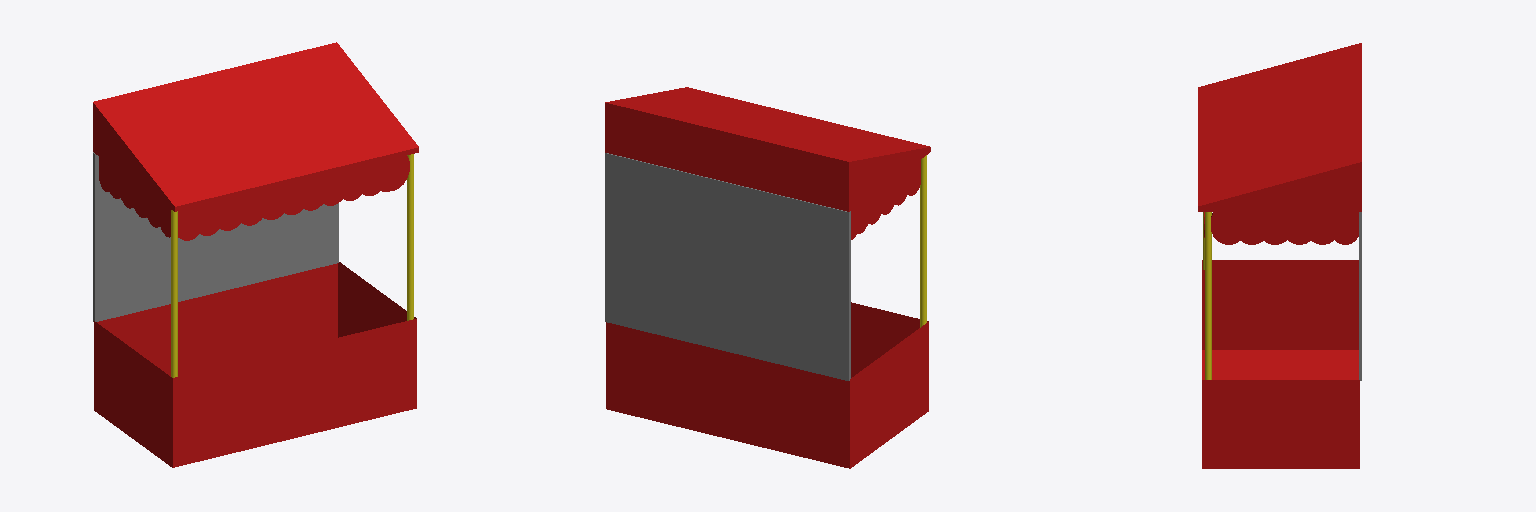
The picture shows the model from 3 angles: view 1: azimuth 30°, elevation 25°; view 2: azimuth 150°, elevation 25°; view 3: azimuth 270°, elevation 25°; orthographic projection.
Parts seen in each view (by area): view 1: pCube1, pCube3, pCube2, pasted__pasted__pasted__pasted__pasted__pasted__pCylinder2 paste, pasted__pCylinder1 group, pCylinder1, pCylinder2, pasted__pasted__pasted__pCylinder2 pasted__pasted__group1 pasted, pasted__pasted__pCylinder2 pasted__group1 group6, pasted__pasted__pCylinder2 pasted__group1 group2, pasted__pasted__pCylinder2 pasted__group1 group3, pasted__pasted__pCylinder2 pasted__group1 group7 (+4 smaller); view 2: pCube2, pCube1, pCube3, pasted__pasted__pasted__pasted__pasted__pasted__pCylinder2 paste, pasted__pCylinder1 group; view 3: pCube1, pCube3, pasted__pasted__pasted__pasted__pCylinder2 pasted__pasted__paste, pCylinder1, pasted__pasted__pasted__pCylinder2 pasted__pasted__group1 pasted.
Boxes of the visible parts, x1,y1,x2,y2 form: pCube1: [94, 262, 416, 467]; pCube3: [93, 42, 418, 211]; pCube2: [93, 152, 338, 321]; pasted__pasted__pasted__pasted__pasted__pasted__pCylinder2 paste: [99, 157, 162, 227]; pasted__pCylinder1 group: [171, 210, 177, 377]; pCylinder1: [407, 154, 413, 320]; pCylinder2: [178, 205, 205, 240]; pasted__pasted__pasted__pCylinder2 pasted__pasted__group1 pasted: [378, 156, 409, 190]; pasted__pasted__pCylinder2 pasted__group1 group6: [297, 175, 329, 210]; pasted__pasted__pCylinder2 pasted__group1 group2: [214, 195, 246, 230]; pasted__pasted__pCylinder2 pasted__group1 group3: [237, 190, 268, 225]; pasted__pasted__pCylinder2 pasted__group1 group7: [318, 170, 349, 205]; pCube2: [605, 153, 850, 380]; pCube1: [606, 302, 928, 468]; pCube3: [605, 87, 930, 211]; pasted__pasted__pasted__pasted__pasted__pasted__pCylinder2 paste: [851, 168, 910, 239]; pasted__pCylinder1 group: [920, 155, 926, 327]; pCube1: [1202, 260, 1359, 468]; pCube3: [1198, 43, 1361, 211]; pasted__pasted__pasted__pasted__pCylinder2 pasted__pasted__paste: [1236, 212, 1358, 244]; pCylinder1: [1205, 212, 1211, 379]; pasted__pasted__pasted__pCylinder2 pasted__pasted__group1 pasted: [1204, 212, 1247, 244].
Size of the model in its own units: 2.56 by 3.08 by 1.49.
Materials: 36 (3 with a texture image).